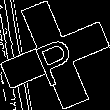P_NW: (28, 24, 82, 86)
